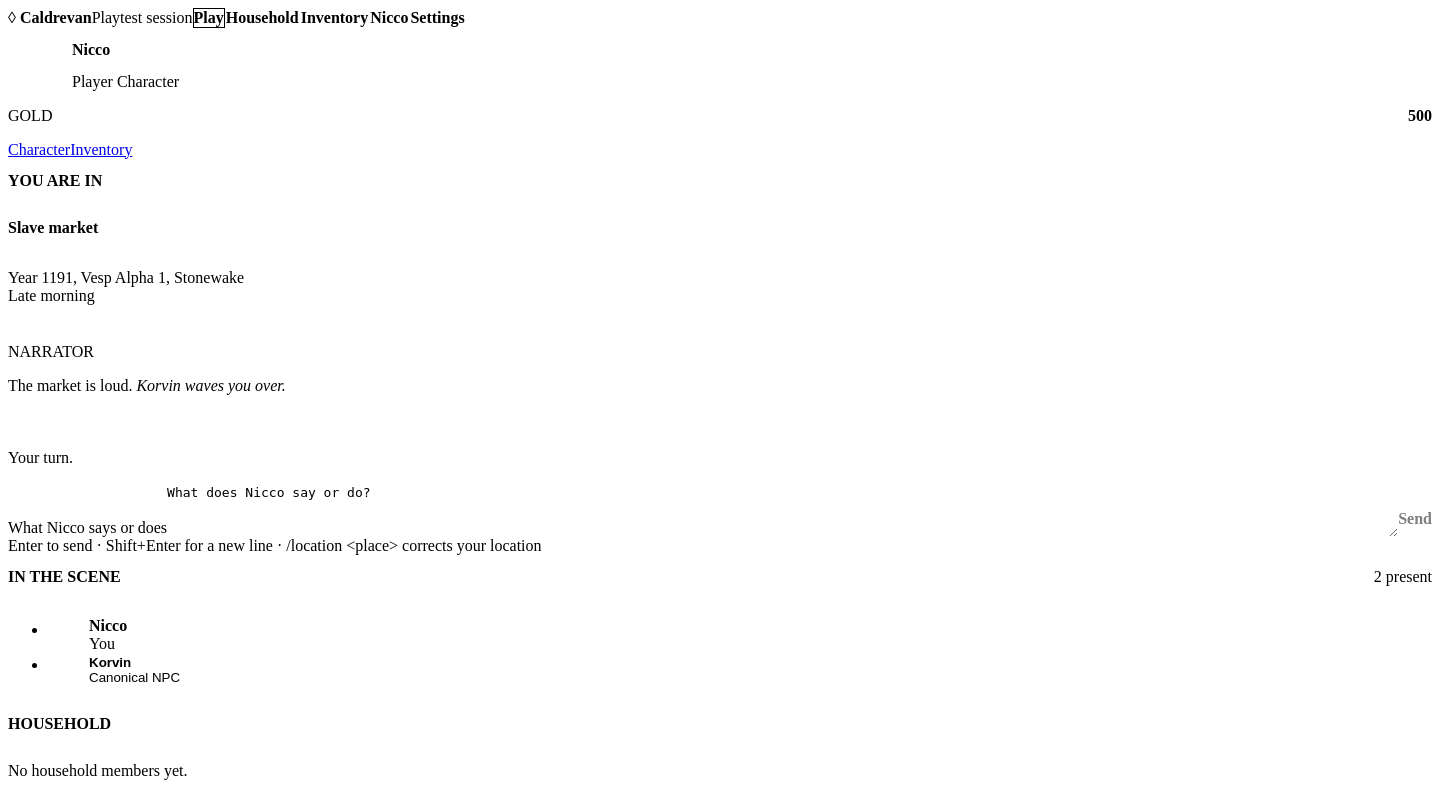
Test case: /location correction › is an administrative request, not a turn: it posts the target and the rendered revision, adds nothing to the story, and the new location comes from the returned
The image size is (1440, 810).
Type "/location heartstone_lr" into the text box labelled "What Nicco says or does".
click(783, 511); type("/location heartstone_lr")  # box [167, 485, 1398, 537]
Then press Enter
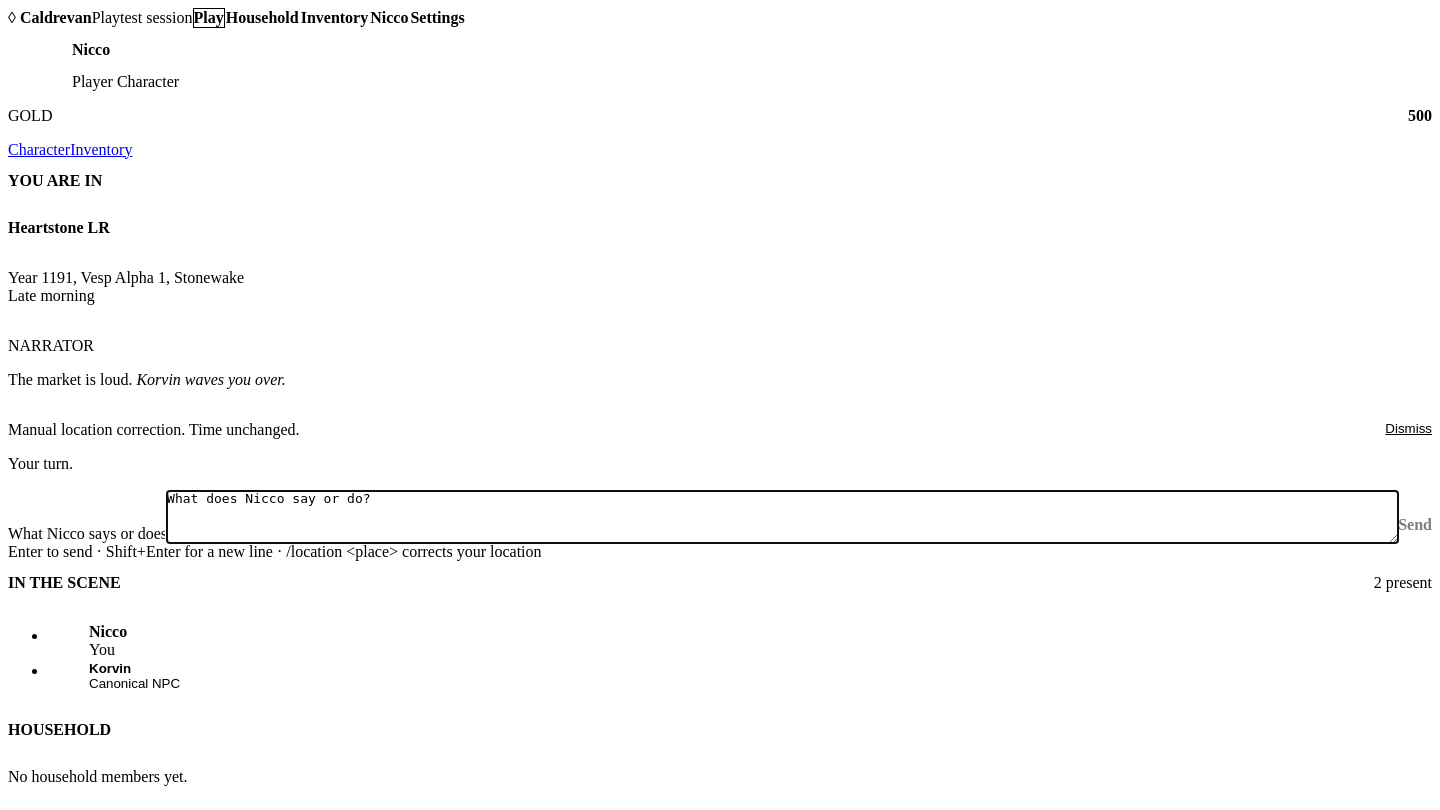
Check: the text "Manual location correction. Time unchanged." is shown, box [8, 421, 300, 439]
Check: the text "Heartstone LR" is shown, box [8, 219, 110, 236]
